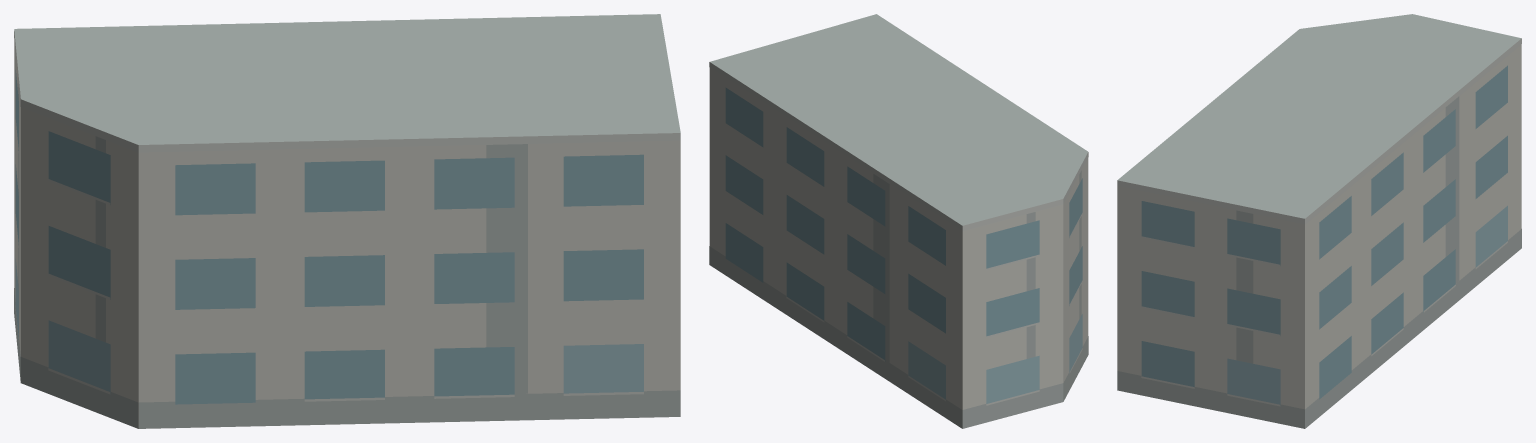
Rendered from residential-9b86cb98-7a99-45ca-b1e6-9ad54218f073.glb.
3 views of the same model, side by side, from view 1: azimuth 30°, elevation 25°; view 2: azimuth 150°, elevation 25°; view 3: azimuth 270°, elevation 25° (orthographic). The views are drawn at different scales.
Visible parts, largest first — view 1: residential-9b86cb98-7a99-45ca-b1e6-9ad54218f073.tmp; view 2: residential-9b86cb98-7a99-45ca-b1e6-9ad54218f073.tmp; view 3: residential-9b86cb98-7a99-45ca-b1e6-9ad54218f073.tmp.
Boxes of the visible parts, x1=… form: residential-9b86cb98-7a99-45ca-b1e6-9ad54218f073.tmp: x1=14, y1=14, x2=680, y2=428; residential-9b86cb98-7a99-45ca-b1e6-9ad54218f073.tmp: x1=709, y1=14, x2=1088, y2=428; residential-9b86cb98-7a99-45ca-b1e6-9ad54218f073.tmp: x1=1117, y1=14, x2=1521, y2=428.
Bounding box in the file's own units: 18.83 × 9 × 15.72.
